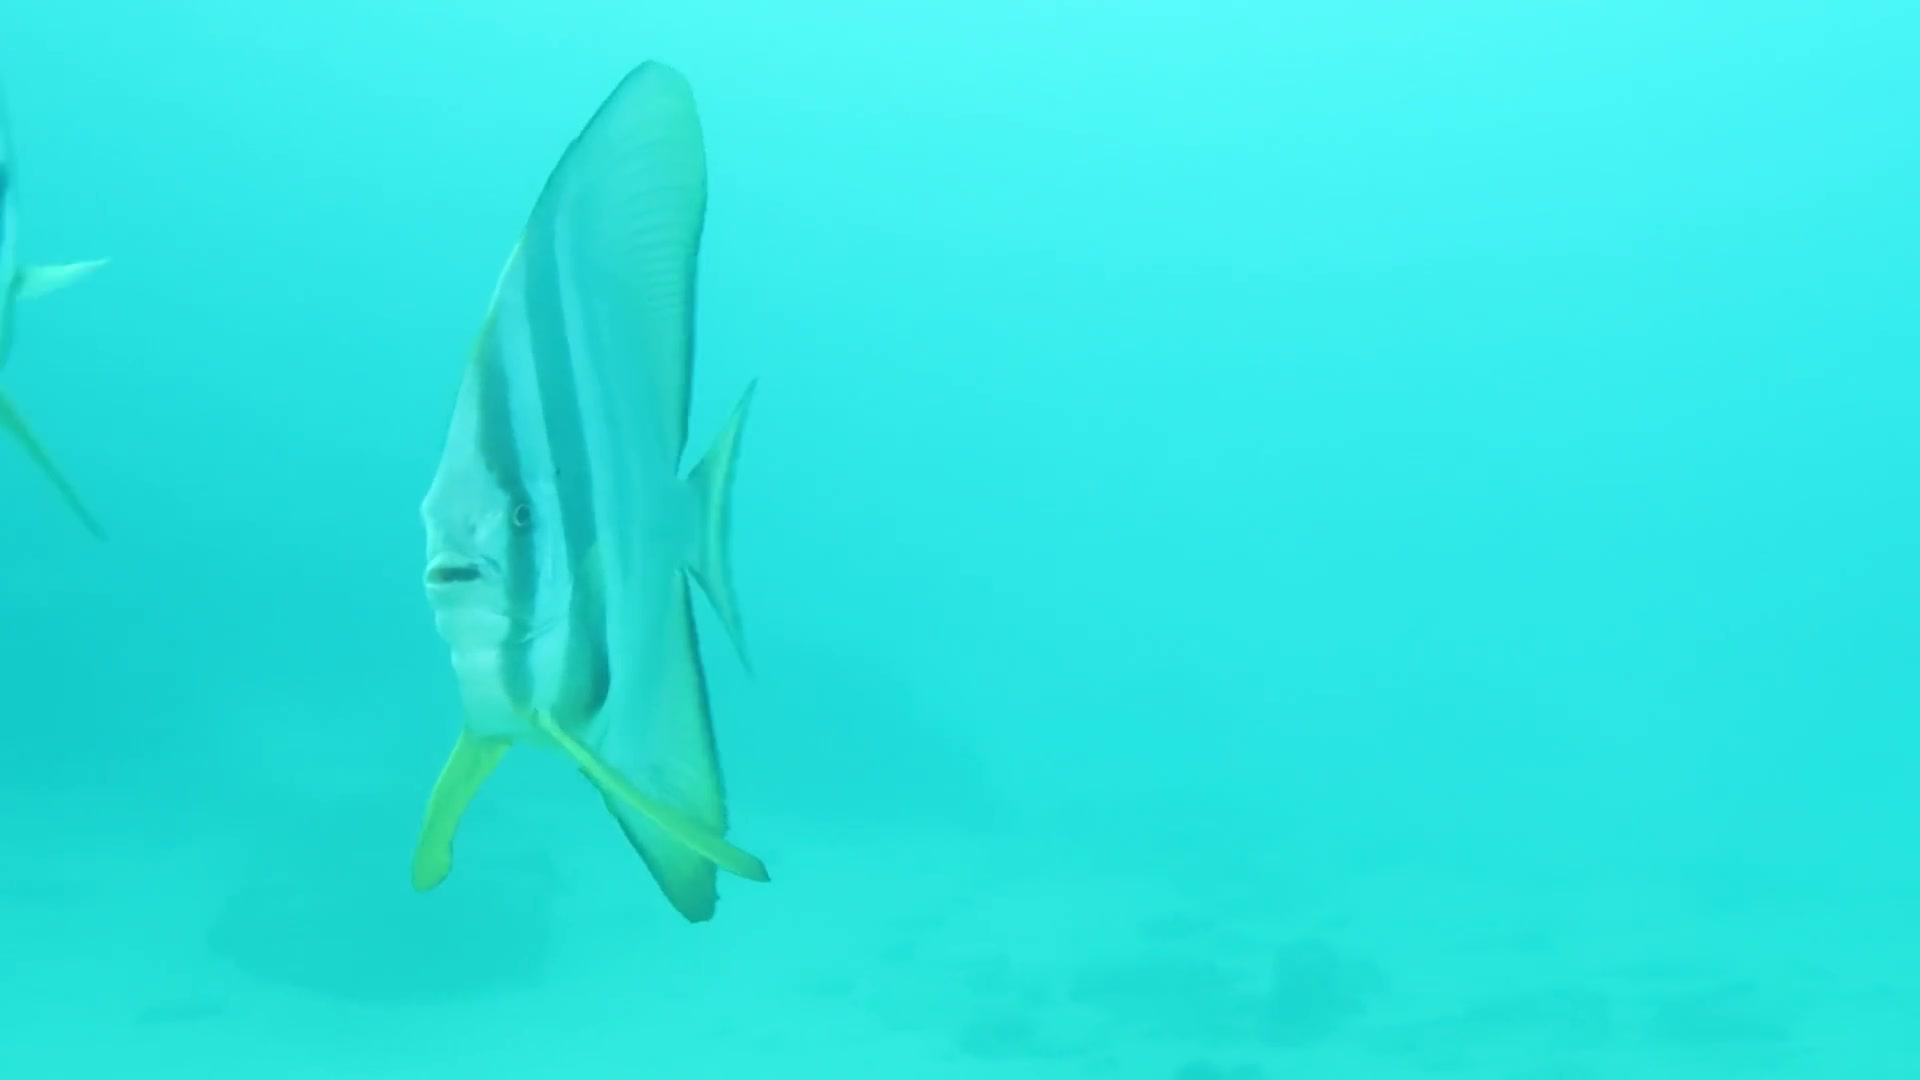Platax teira: (334, 55, 1011, 926)
